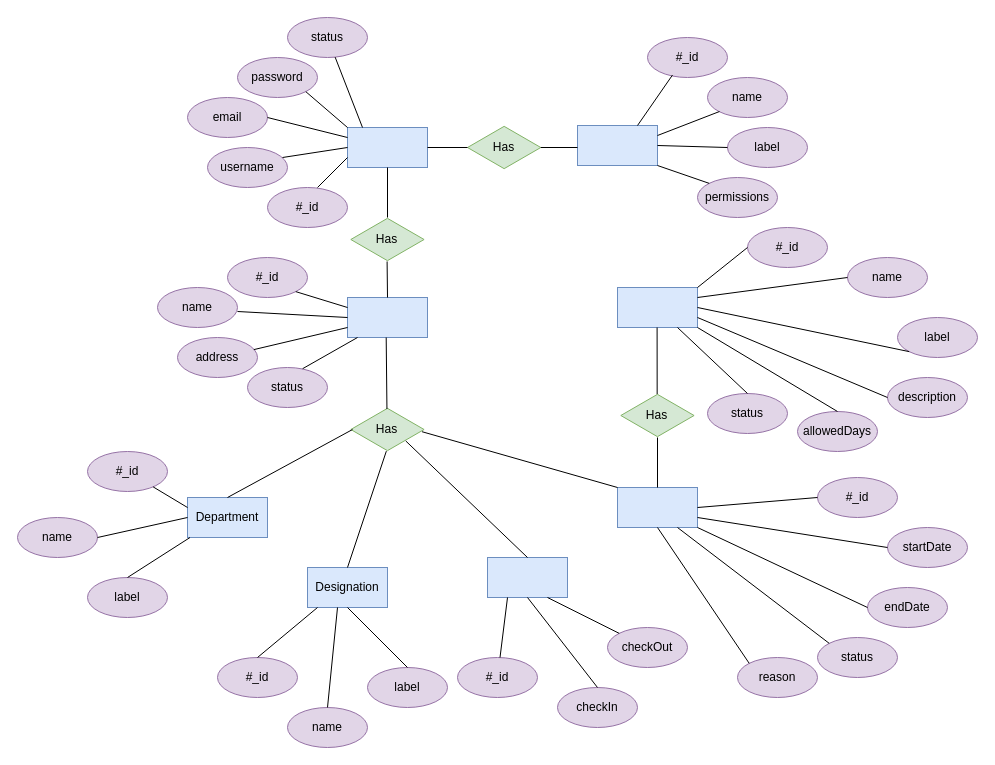
Image size: 995x765. Some labels were removed from this diagram. Each missing label, with the centre of its shape:
"Attendance" belongs at (x=527, y=577).
"Employee" belongs at (x=387, y=317).
"Leave" belongs at (x=657, y=507).
"Leave Type" belongs at (x=657, y=307).
"Role" belongs at (x=617, y=145).
"User" belongs at (x=387, y=147).
